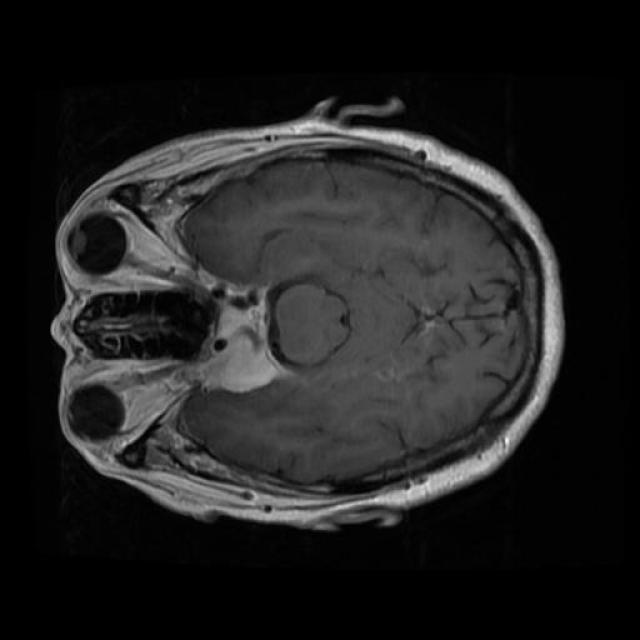Meningioma: (198, 325, 278, 392)
